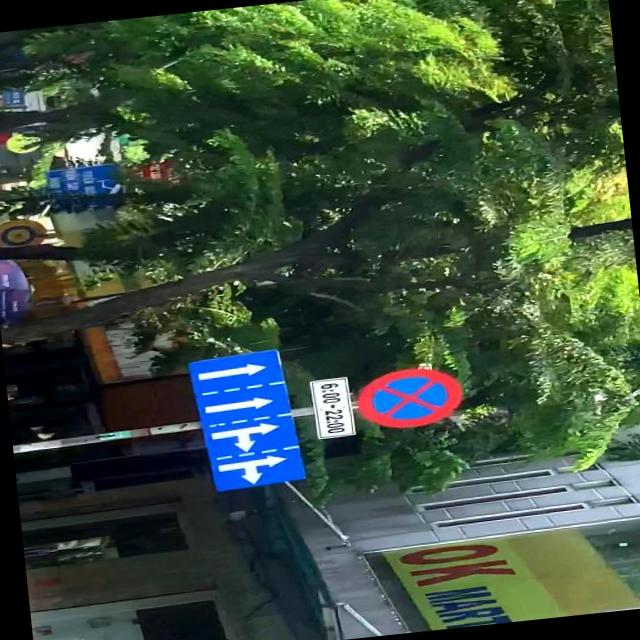P-130: (352, 363, 464, 431)
